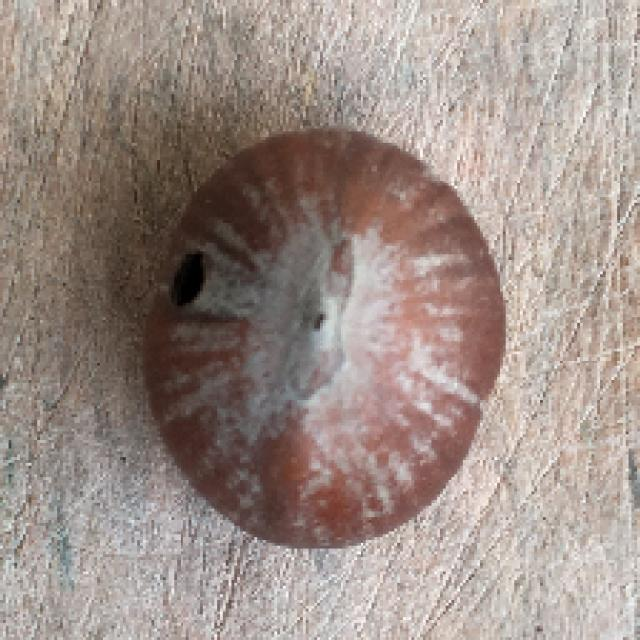damagedHazelnut: (129, 113, 512, 559)
